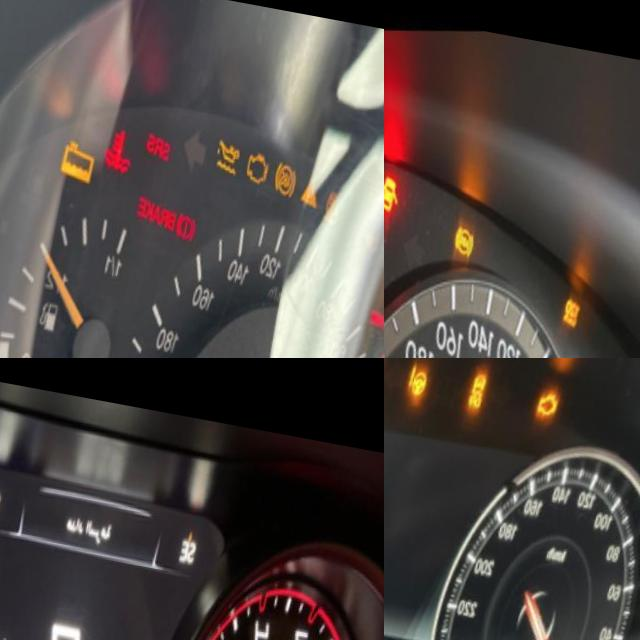Doors: (384, 161, 413, 209)
High Engine Coolant Temperature: (105, 118, 145, 172)
